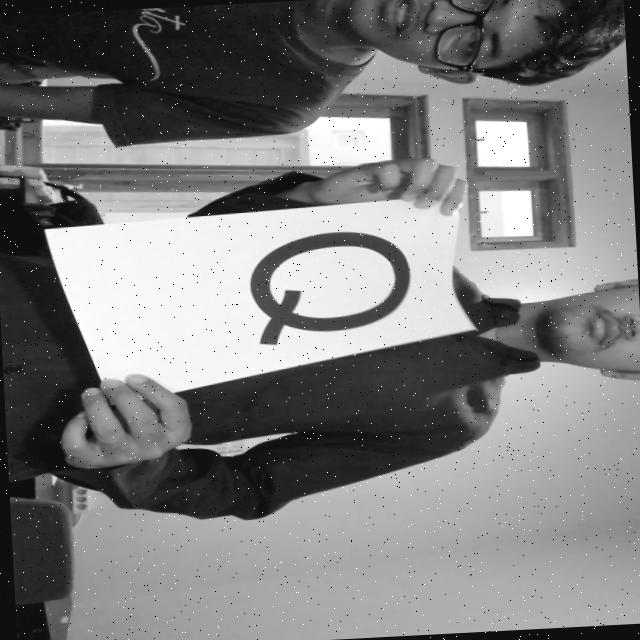q: (195, 222, 426, 368)
